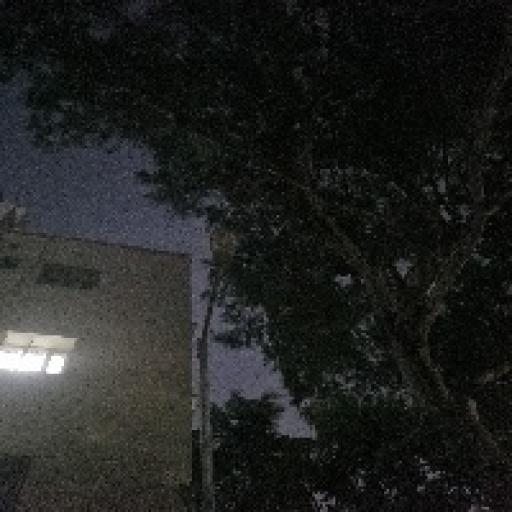Not Working: (192, 214, 250, 284)
